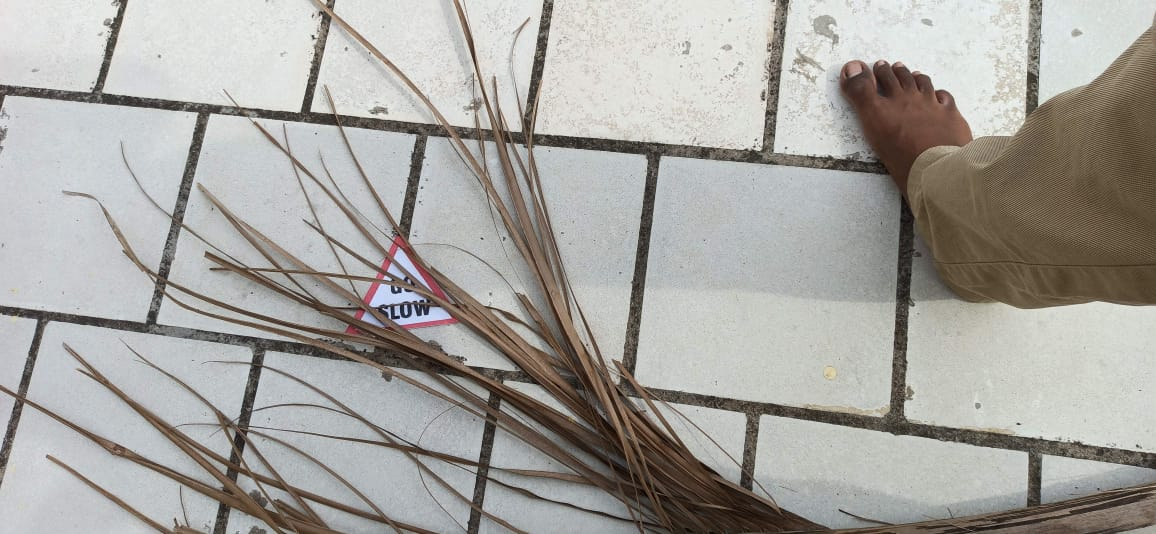GO SLOW: (341, 226, 476, 331)
